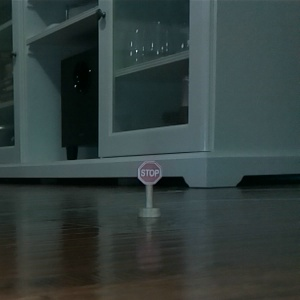stop sign: (134, 157, 162, 221)
